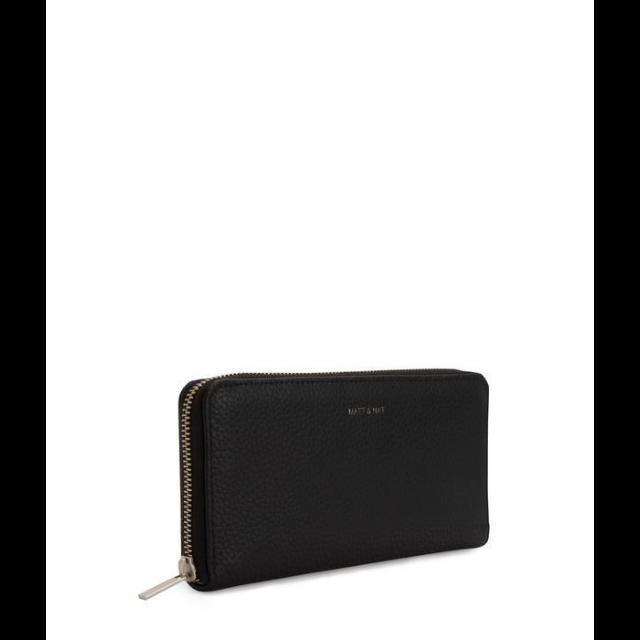Wallet: (140, 369, 488, 599)
